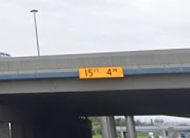1: (82, 67, 88, 79)
4: (104, 67, 112, 77)
5: (87, 68, 94, 78)
overheadsign: (77, 66, 124, 78)
